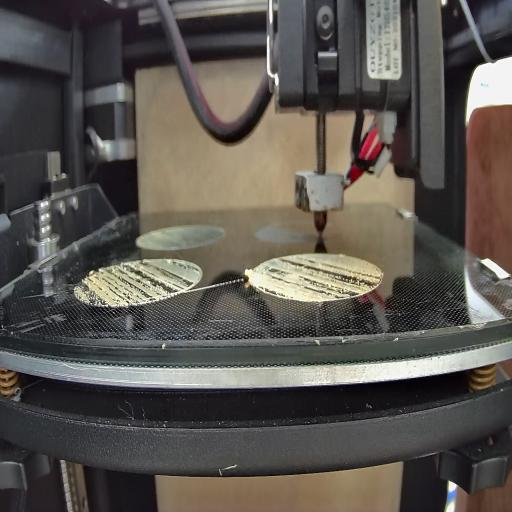under_extrusion: (255, 259, 382, 299)
